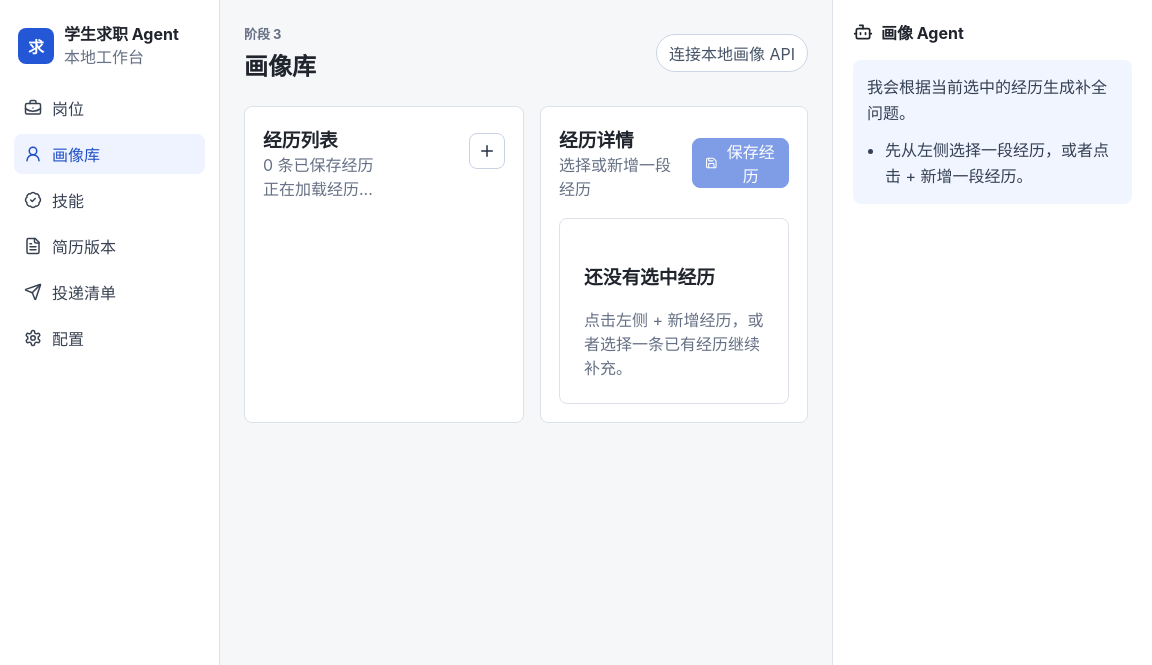
Test: JobsPage › mounts the jobs workbench from the jobs navigation
Click the button "岗位": (110, 108) [14,88,205,128]
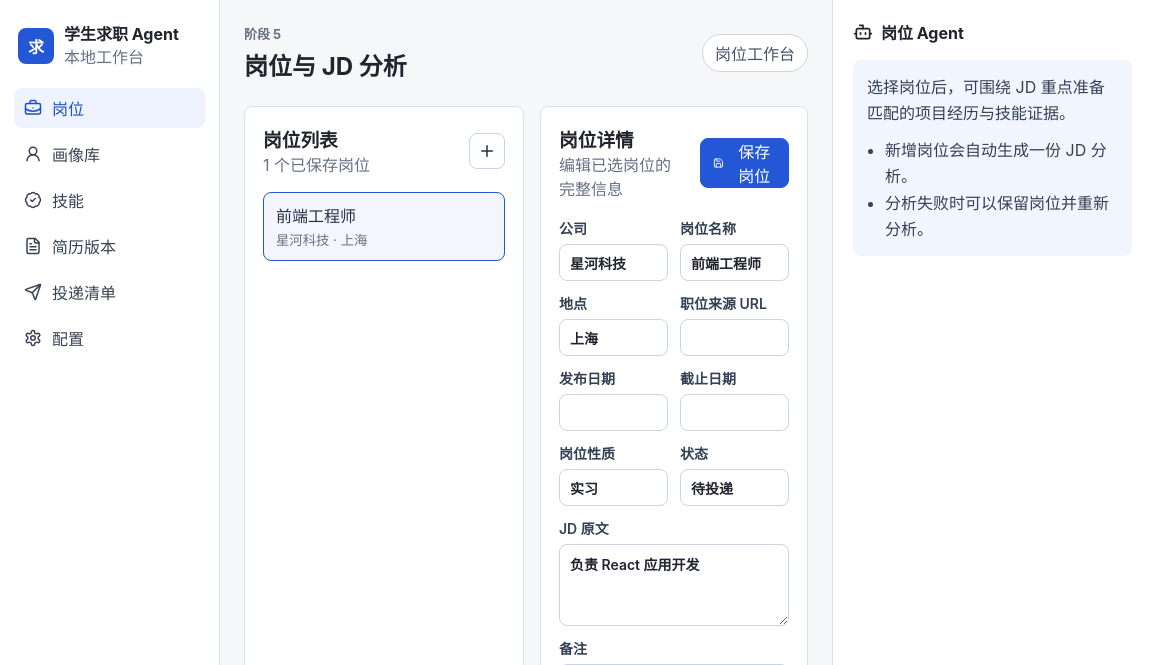
Check: the heading "岗位列表" is shown, box [263,129,338,152]
Check: the heading "岗位与 JD 分析" is shown, box [244,47,407,82]
